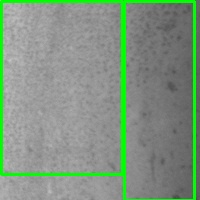pitted_surface: (1, 1, 122, 174), (124, 1, 194, 200)
